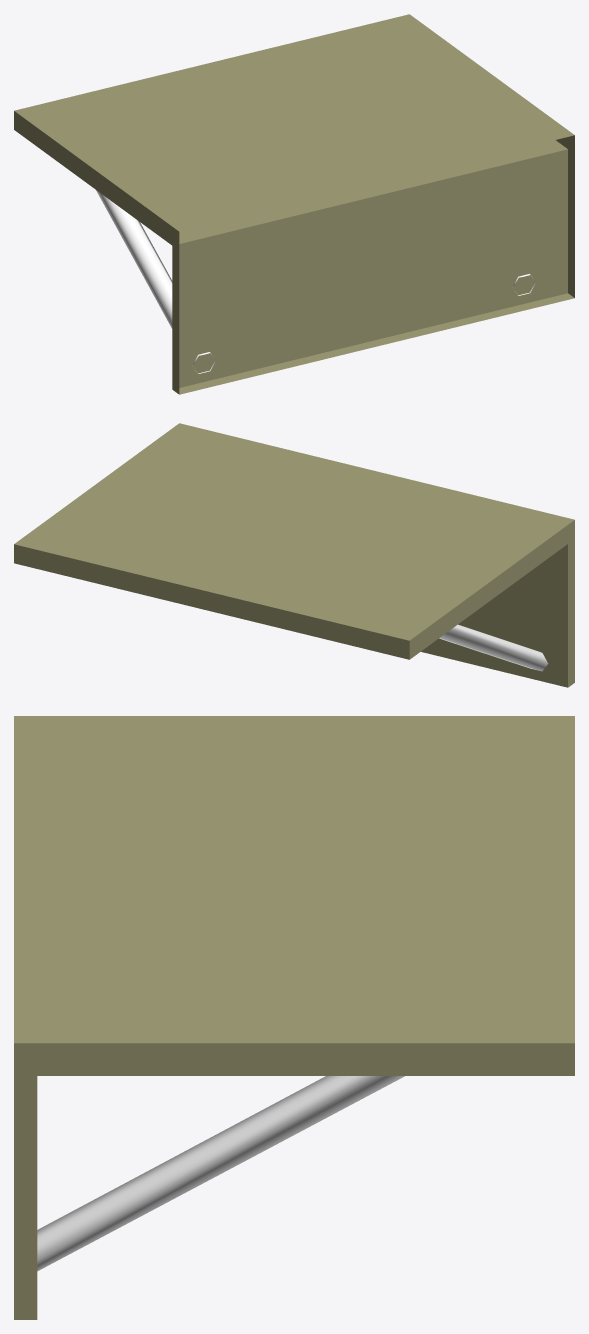
Rendered from SM_Shelf_01.FBX.
The picture shows the model from 3 angles, top to bottom: view 1: azimuth 30°, elevation 25°; view 2: azimuth 150°, elevation 25°; view 3: azimuth 270°, elevation 25°; orthographic projection. The views are drawn at different scales.
Visible parts, largest first — view 1: SM_Shelf_01; view 2: SM_Shelf_01; view 3: SM_Shelf_01.
Boxes of the visible parts, x1=… form: SM_Shelf_01: x1=14, y1=14, x2=574, y2=394; SM_Shelf_01: x1=14, y1=423, x2=574, y2=687; SM_Shelf_01: x1=14, y1=716, x2=574, y2=1319.
Size of the model in its own units: 103 by 74.56 by 40.54.
